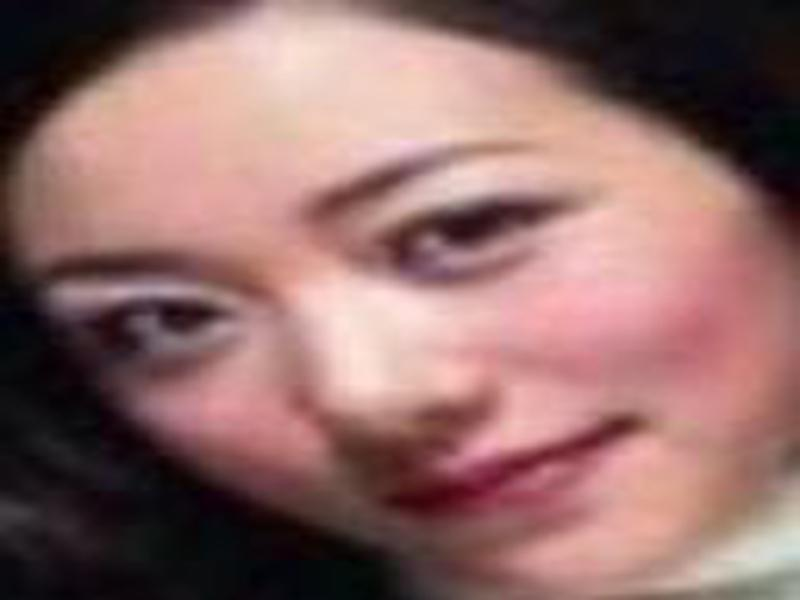without_mask: (17, 25, 759, 587)
